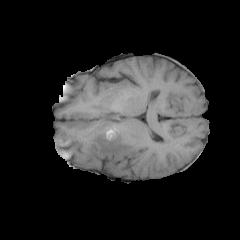glioma: (91, 126, 134, 171)
